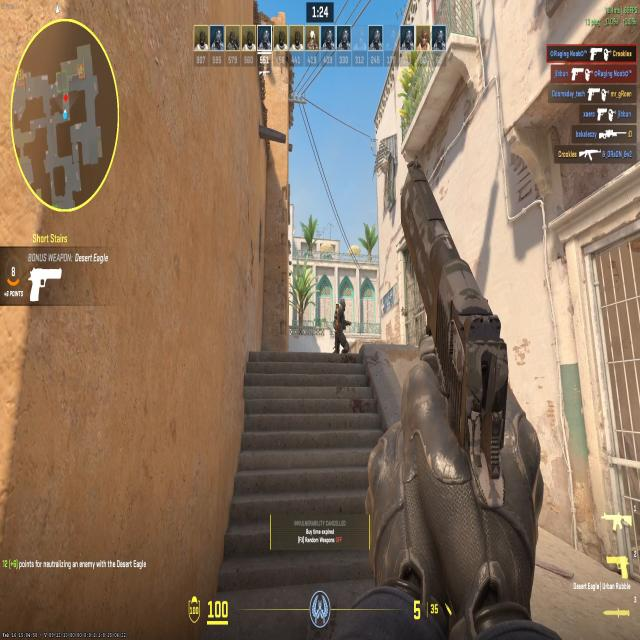player: (332, 292, 354, 358)
